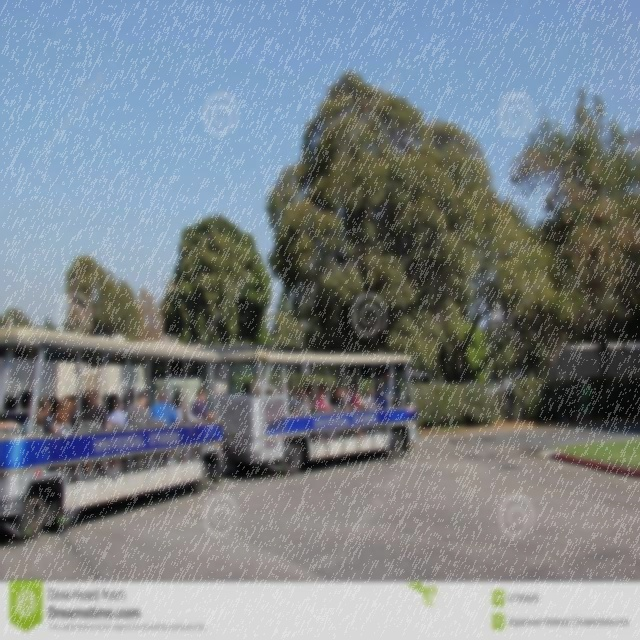pessoa: (81, 390, 112, 480), (130, 388, 158, 471), (34, 394, 59, 472), (106, 396, 128, 478), (61, 393, 86, 465), (169, 390, 203, 428), (150, 386, 181, 426), (316, 386, 338, 442), (349, 388, 366, 440), (191, 388, 214, 424), (362, 386, 378, 436), (54, 396, 74, 432), (13, 391, 32, 426), (379, 368, 396, 407), (296, 388, 315, 416), (2, 395, 18, 422), (329, 385, 345, 412), (47, 396, 60, 424), (305, 384, 317, 414), (101, 392, 114, 418), (296, 388, 308, 416), (286, 386, 296, 417), (121, 390, 135, 412), (1, 392, 12, 419), (345, 377, 358, 395), (323, 384, 328, 402)
